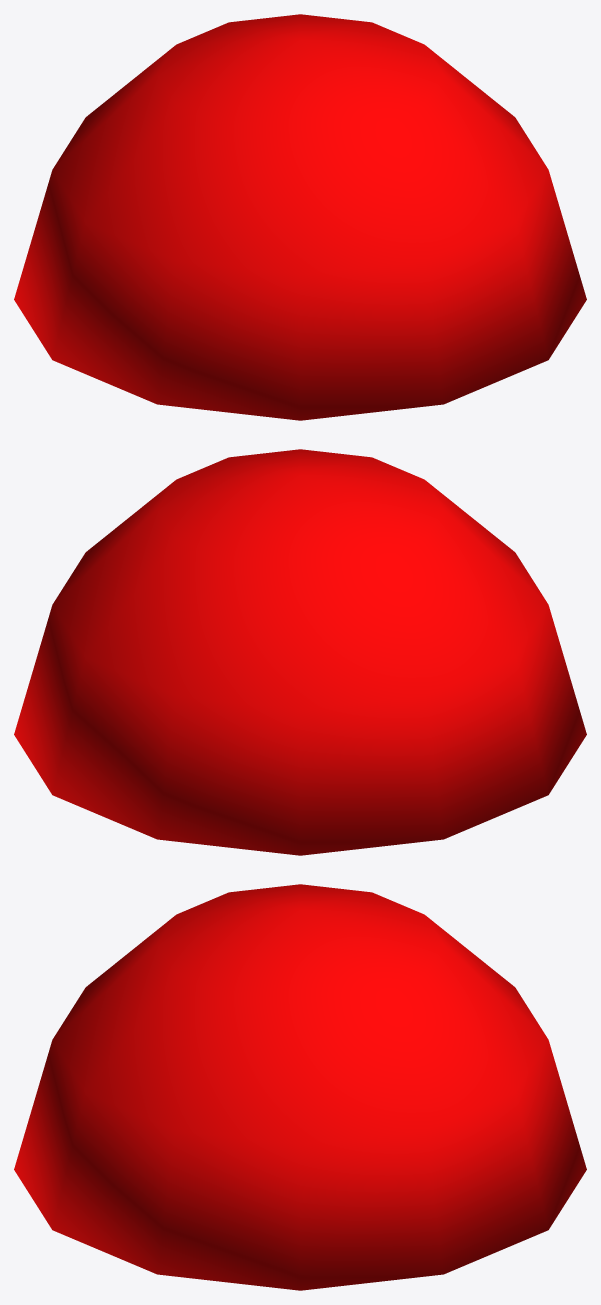
File: Roof_2.FBX
3 views of the same model, one above another, from view 1: azimuth 30°, elevation 25°; view 2: azimuth 150°, elevation 25°; view 3: azimuth 270°, elevation 25° (orthographic).
Parts seen in each view (by area): view 1: Roof_2; view 2: Roof_2; view 3: Roof_2.
Boxes of the visible parts, x1,y1,x2,y2 form: Roof_2: [14, 14, 586, 420]; Roof_2: [14, 449, 586, 855]; Roof_2: [14, 884, 586, 1290].
Size of the model in its own units: 200 by 100 by 200.
